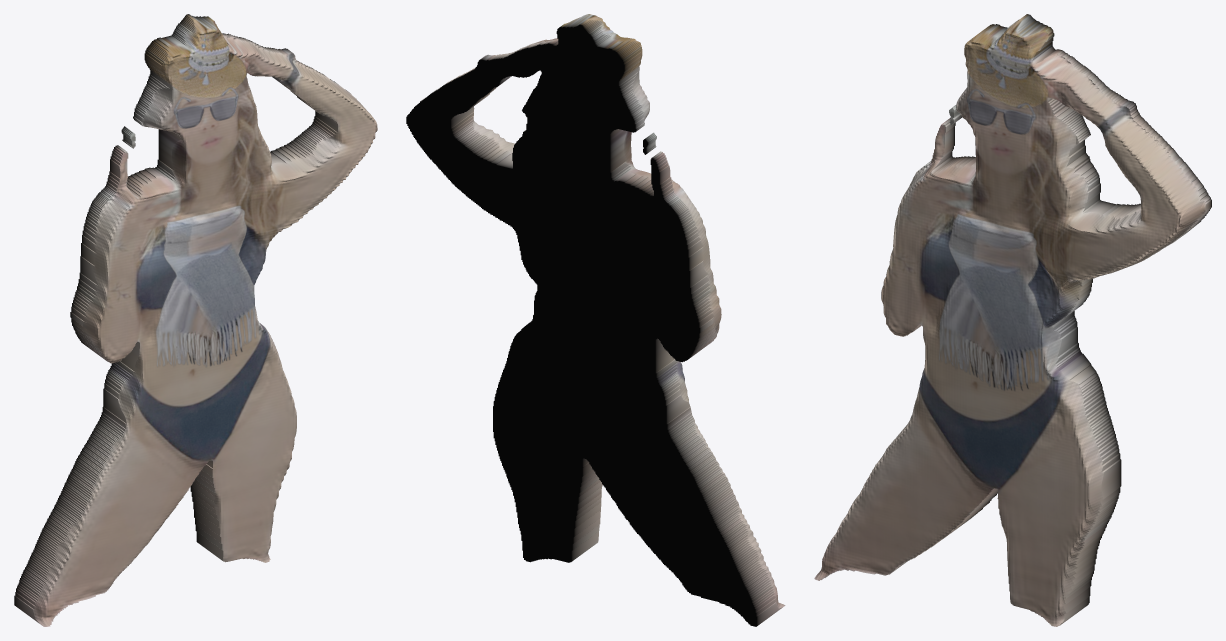
File: avatar_20260313_114002.glb
3 renders of one model, left to right at view 1: azimuth 30°, elevation 25°; view 2: azimuth 150°, elevation 25°; view 3: azimuth 330°, elevation 25°, orthographic. The views are drawn at different scales.
Parts seen in each view (by area): view 1: world; view 2: world; view 3: world.
Part boxes in pixels (x1,y1,x2,y2): world: (14, 14, 377, 626); world: (406, 14, 785, 626); world: (814, 14, 1211, 626).
Size of the model in its own units: 1.07 by 1.63 by 0.16.
